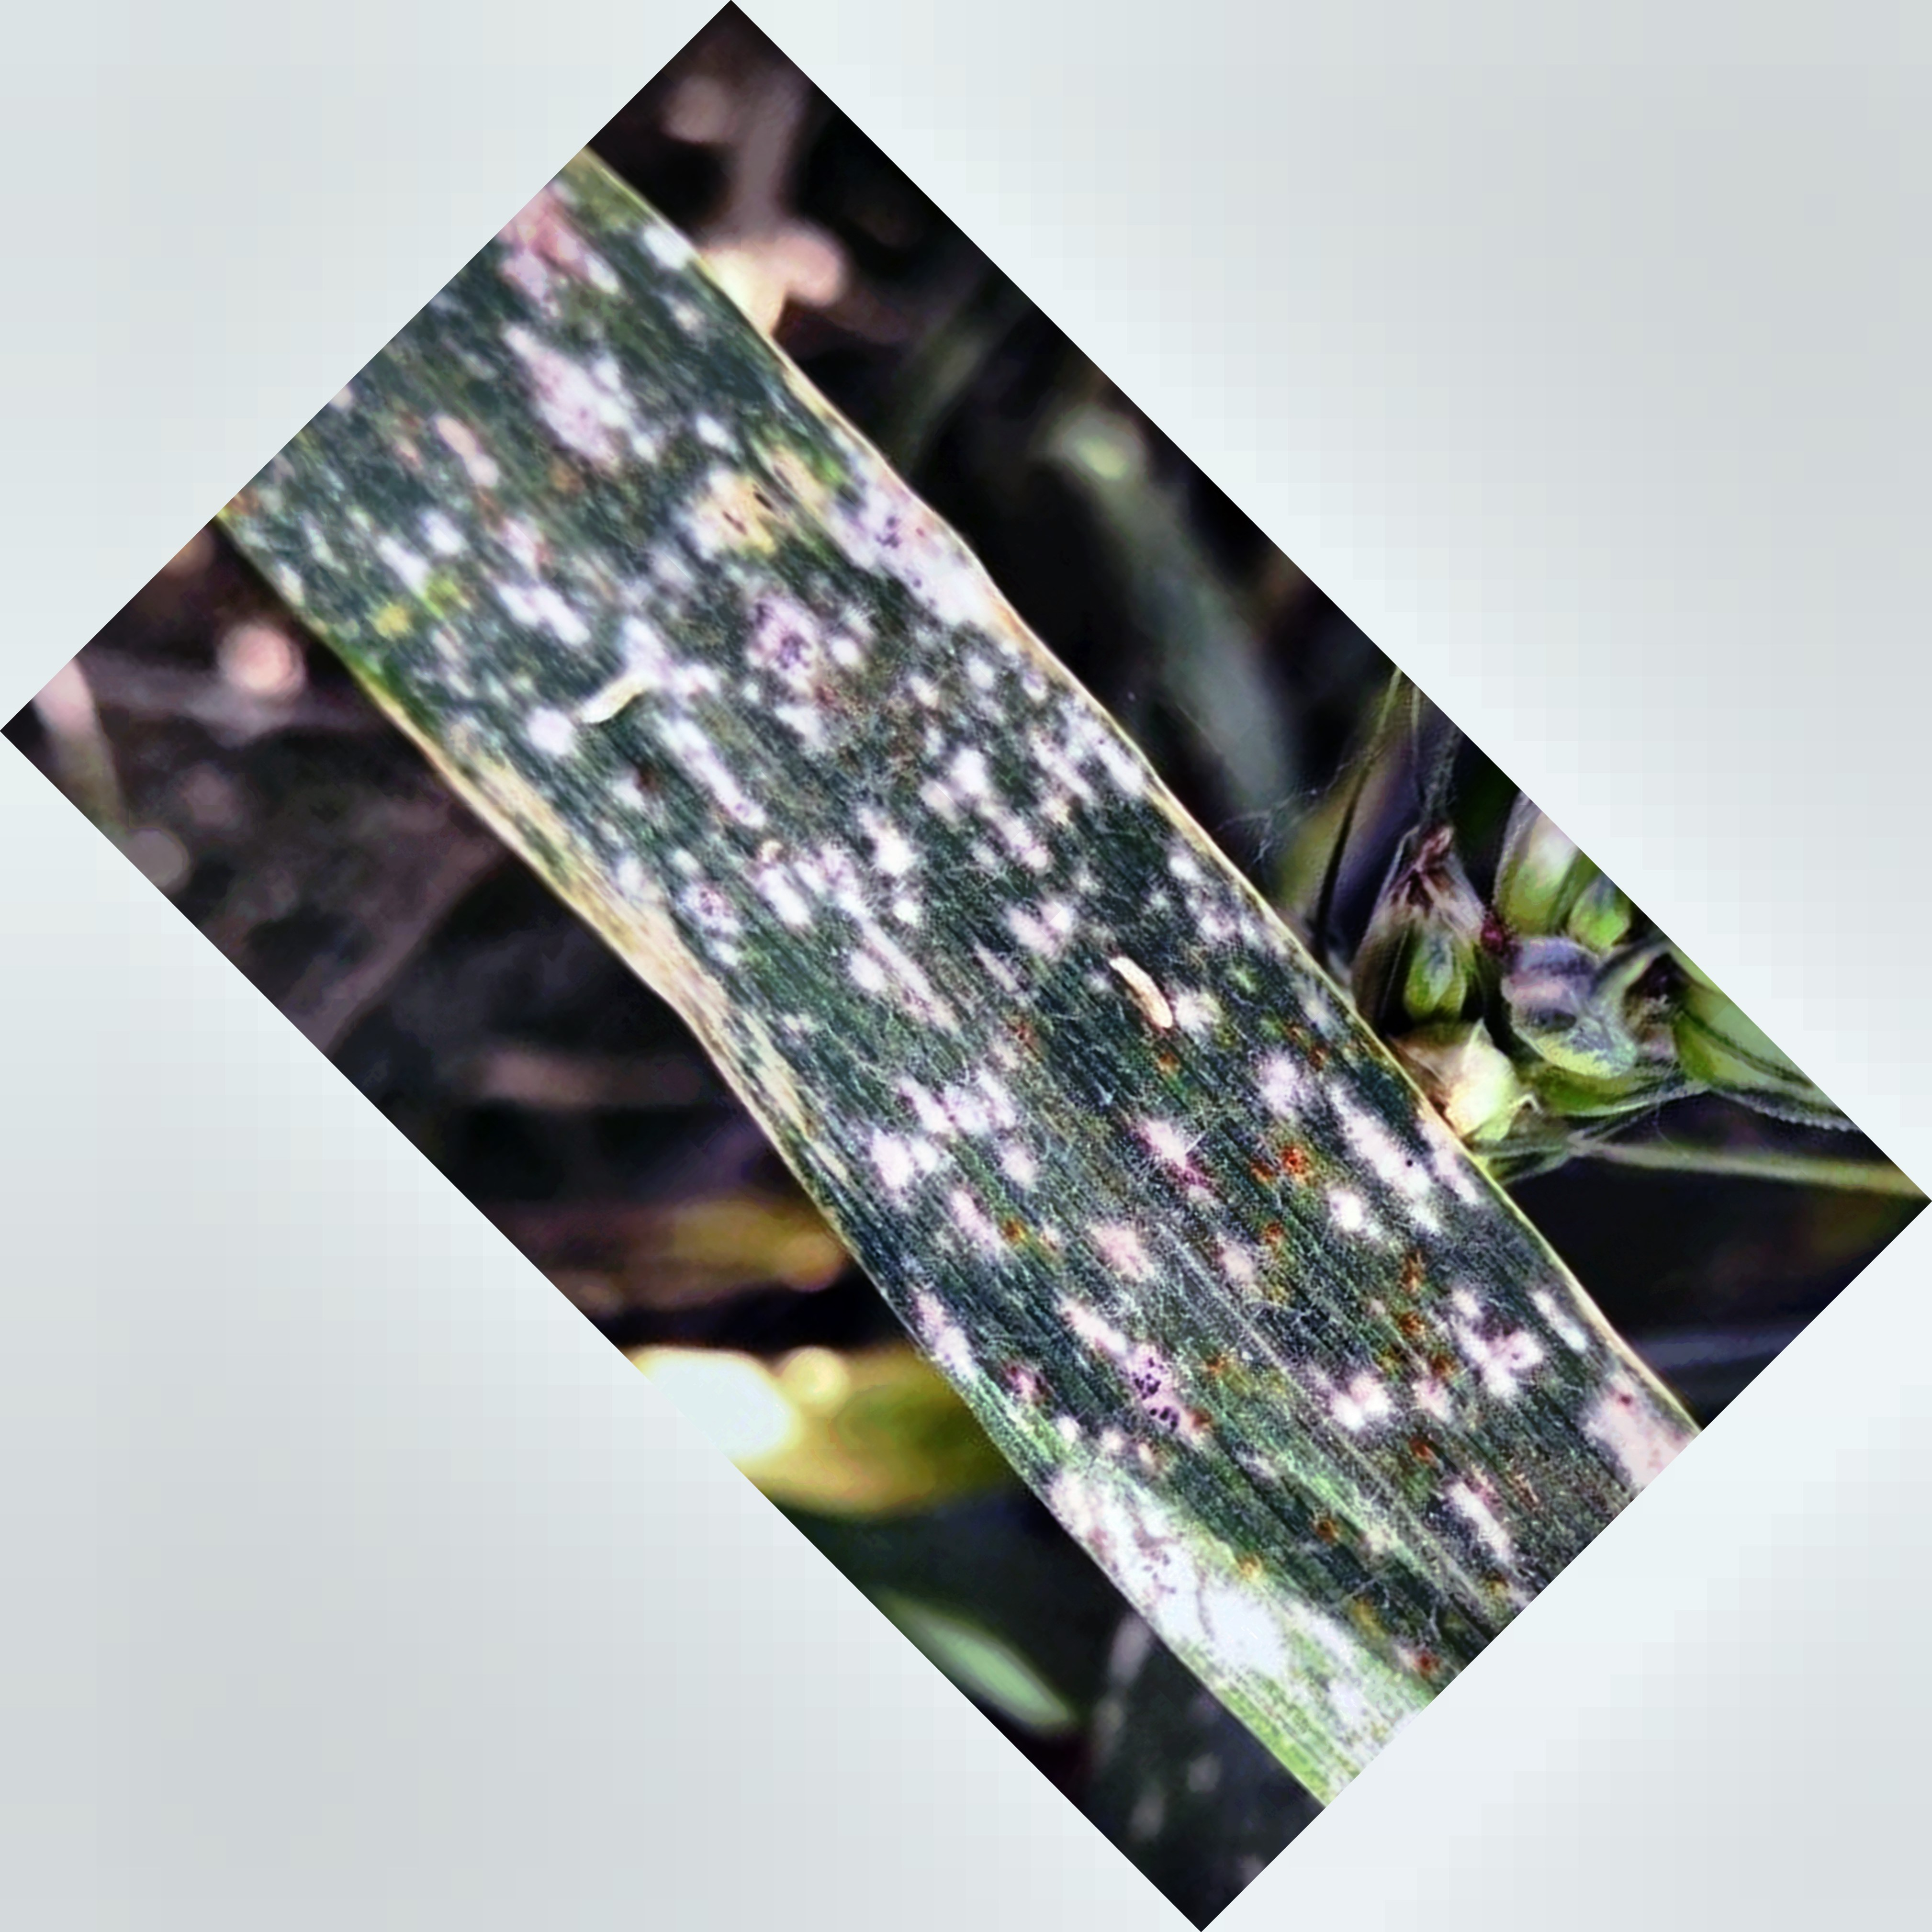Powdery Mildew: (430, 430, 1435, 1506)
